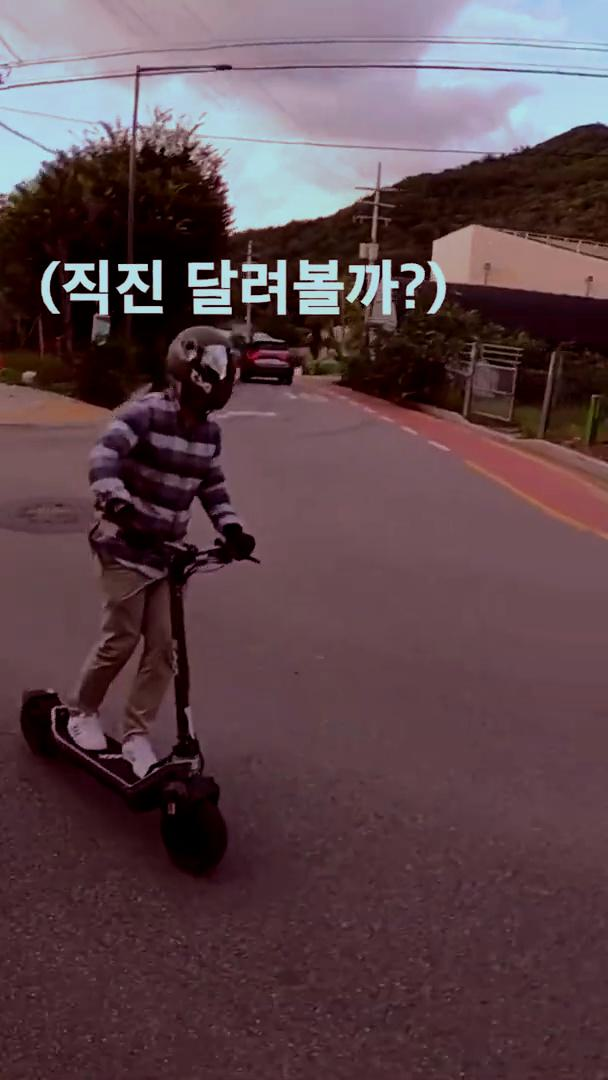helmet: (16, 322, 264, 880)
